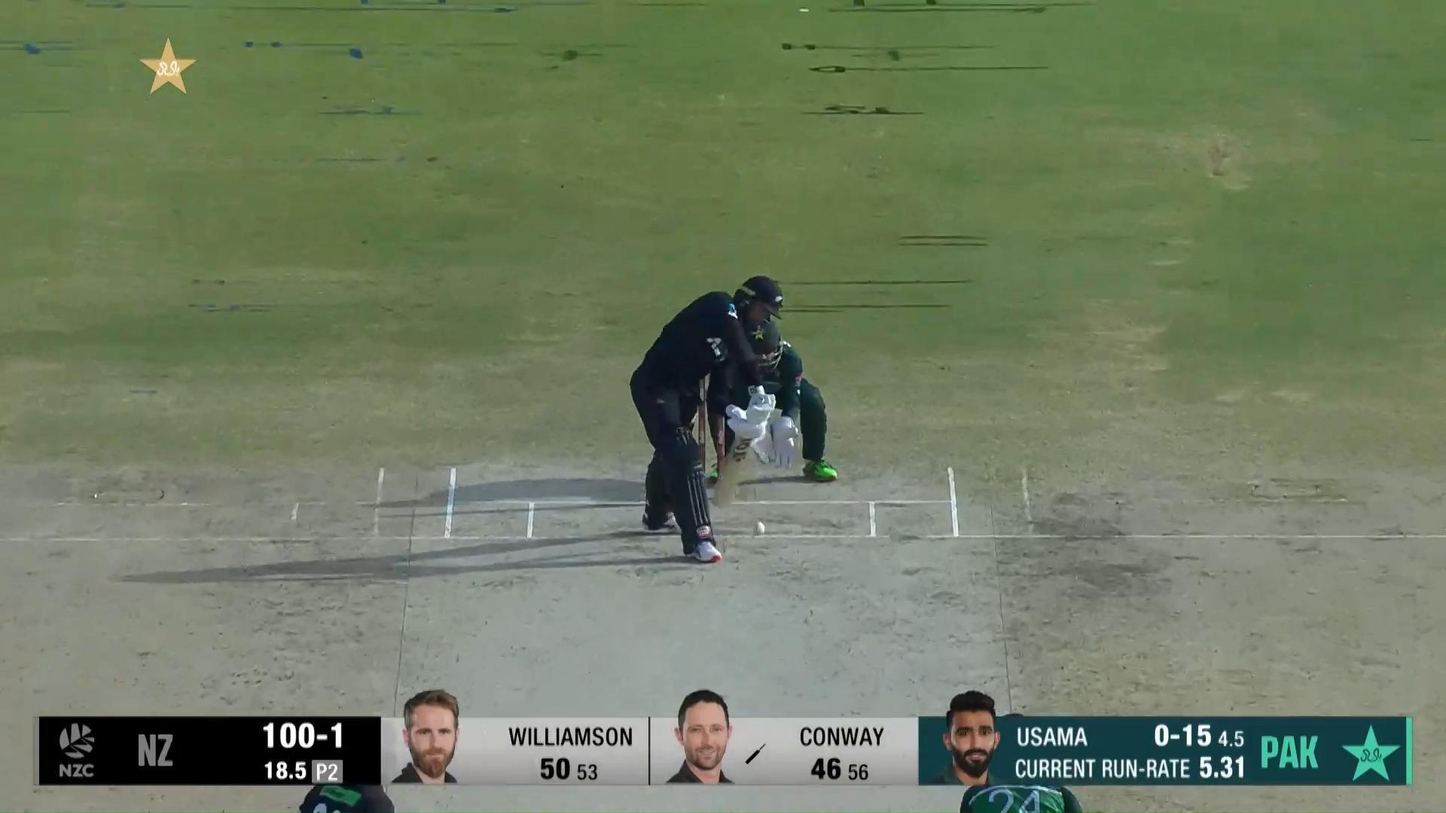BM 1: (628, 274, 786, 565)
BO: (957, 711, 1085, 813)
